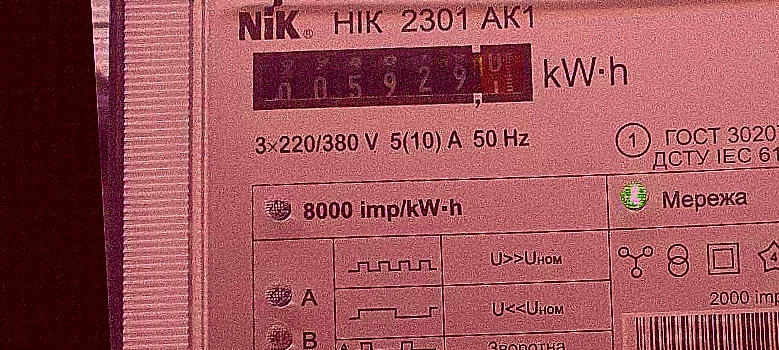0: (310, 73, 331, 102), (273, 76, 295, 101), (485, 50, 505, 74)
2: (414, 62, 434, 96)
5: (345, 71, 364, 100)
9: (378, 68, 400, 99), (450, 61, 470, 94), (277, 56, 296, 75)
screen: (243, 31, 542, 126)
